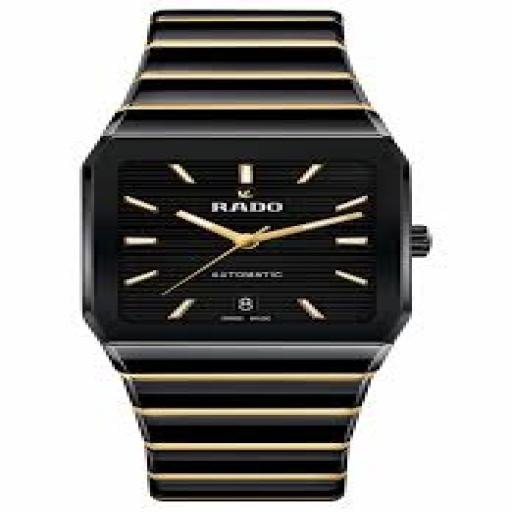KolSaati: (32, 4, 477, 504)
